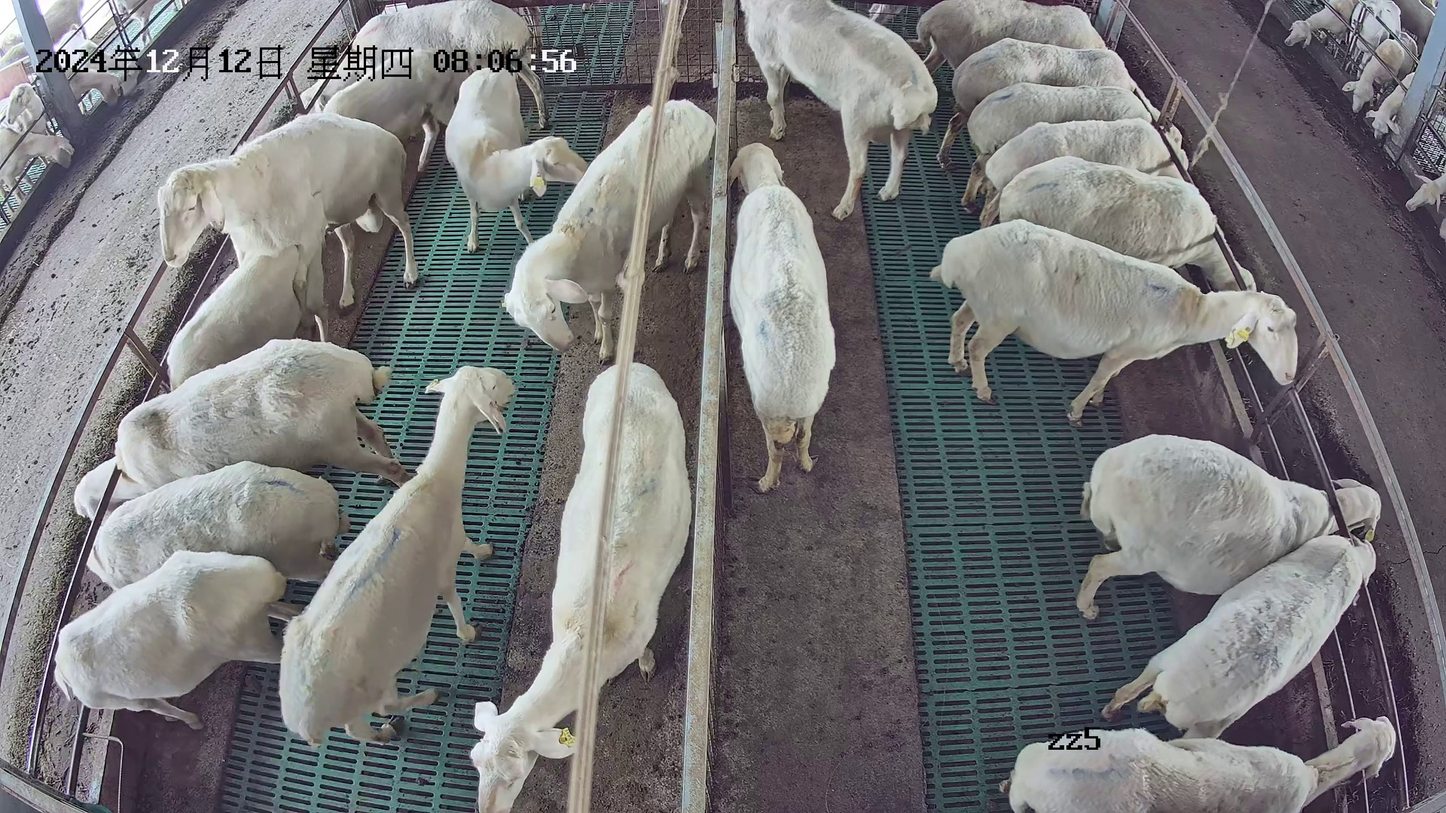Smounting: (156, 110, 419, 398)
mounted: (164, 227, 334, 395)
